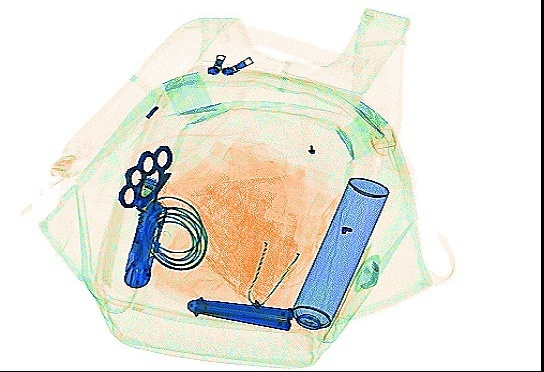knife: (117, 194, 167, 290), (183, 293, 295, 331)
pressure: (283, 174, 389, 349)
